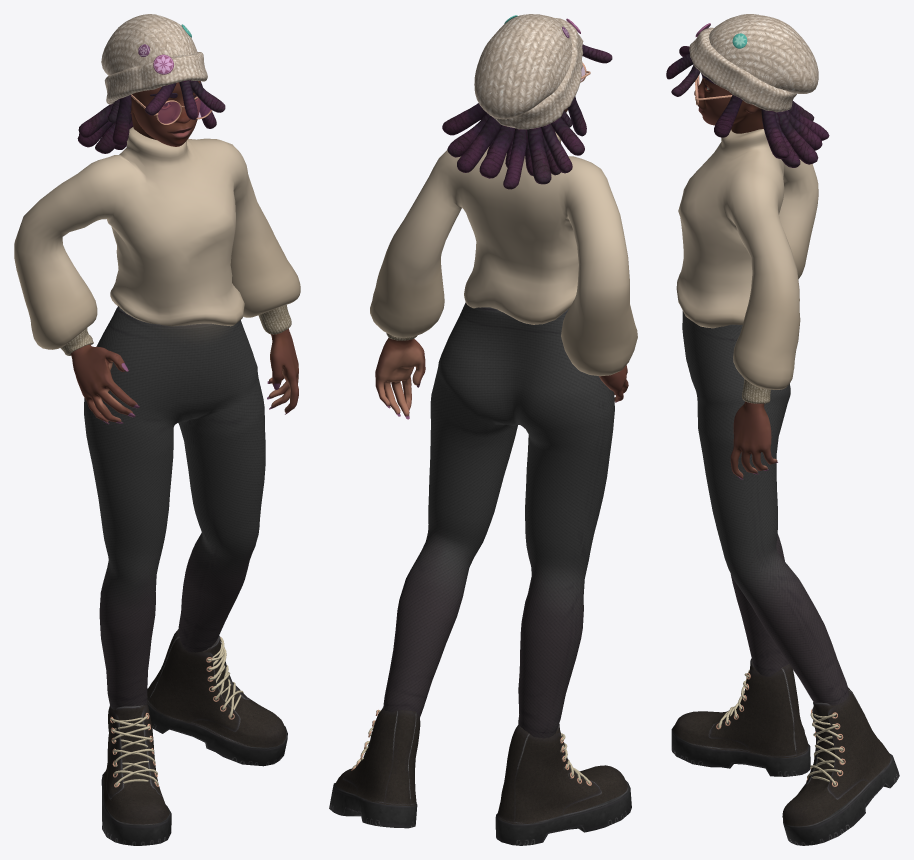
3 renders of one model, left to right at view 1: azimuth 30°, elevation 25°; view 2: azimuth 150°, elevation 25°; view 3: azimuth 270°, elevation 25°, orthographic. The views are drawn at different scales.
Visible parts, largest first — view 1: trousers_low, pullover_low, shoes_low, cap_low, hands_low, face_low, laces_low, sleeves_low, hair5_high, glasses_lens_low; view 2: trousers_low, pullover_low, shoes_low, cap_low, hands_low, hair2_high, hair14_high, hair_high, hair16_high, hair4_high, hair9_high, hair17_high (+1 smaller); view 3: pullover_low, trousers_low, shoes_low, cap_low, hands_low, face_low, laces_low, hair2_high, hair4_high, hair8_high, sleeves_low, hair14_high.
Part boxes in pixels (x1,y1,x2,y2): trousers_low: [84, 306, 265, 709]; pullover_low: [14, 127, 300, 349]; shoes_low: [101, 629, 287, 845]; cap_low: [101, 14, 207, 104]; hands_low: [70, 328, 298, 424]; face_low: [130, 81, 200, 146]; laces_low: [110, 637, 243, 786]; sleeves_low: [60, 304, 291, 355]; hair5_high: [112, 95, 131, 145]; glasses_lens_low: [158, 98, 210, 123]; trousers_low: [383, 302, 614, 738]; pullover_low: [370, 132, 637, 376]; shoes_low: [329, 707, 631, 845]; cap_low: [474, 14, 583, 129]; hands_low: [375, 337, 628, 419]; hair2_high: [457, 116, 501, 172]; hair14_high: [479, 125, 514, 178]; hair_high: [527, 127, 551, 184]; hair16_high: [503, 128, 526, 189]; hair4_high: [442, 103, 486, 135]; hair9_high: [541, 123, 572, 173]; hair17_high: [447, 113, 489, 157]; pullover_low: [676, 129, 818, 389]; trousers_low: [682, 311, 848, 705]; shoes_low: [671, 658, 899, 845]; cap_low: [689, 14, 818, 112]; hands_low: [730, 401, 777, 479]; face_low: [694, 77, 763, 133]; laces_low: [718, 669, 843, 785]; hair2_high: [777, 111, 818, 164]; hair4_high: [761, 109, 788, 158]; hair8_high: [714, 95, 742, 137]; sleeves_low: [742, 378, 770, 403]; hair14_high: [784, 110, 822, 150].
Size of what is drawn, in the model's own units: 0.6679 by 1.82 by 0.5092.
Materials: 5 (5 with a texture image).
